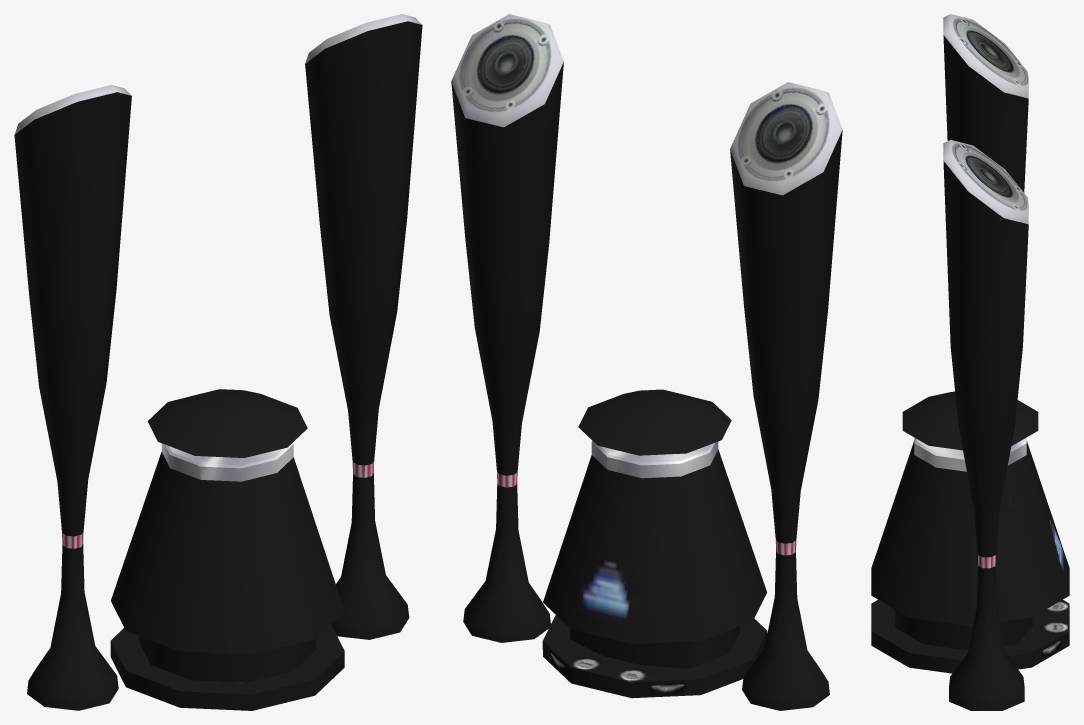
Rendered from furni_0200443.FBX.
3 views of the same model, side by side, from view 1: azimuth 30°, elevation 25°; view 2: azimuth 150°, elevation 25°; view 3: azimuth 270°, elevation 25° (orthographic). The views are drawn at different scales.
Parts seen in each view (by area): view 1: furni_0200443; view 2: furni_0200443; view 3: furni_0200443.
Part boxes in pixels (left/top/right/bottom): furni_0200443: left=14, top=14, right=422, bottom=710; furni_0200443: left=451, top=14, right=842, bottom=710; furni_0200443: left=871, top=14, right=1069, bottom=710.
Size of the model in its own units: 78.29 by 119 by 39.1.
